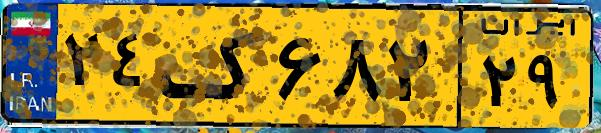2: (385, 28, 445, 110), (57, 26, 110, 100), (475, 38, 525, 113)
4: (110, 28, 158, 98)
6: (270, 28, 330, 110)
8: (330, 28, 385, 110)
9: (525, 38, 570, 115)
ک: (158, 12, 270, 120)
